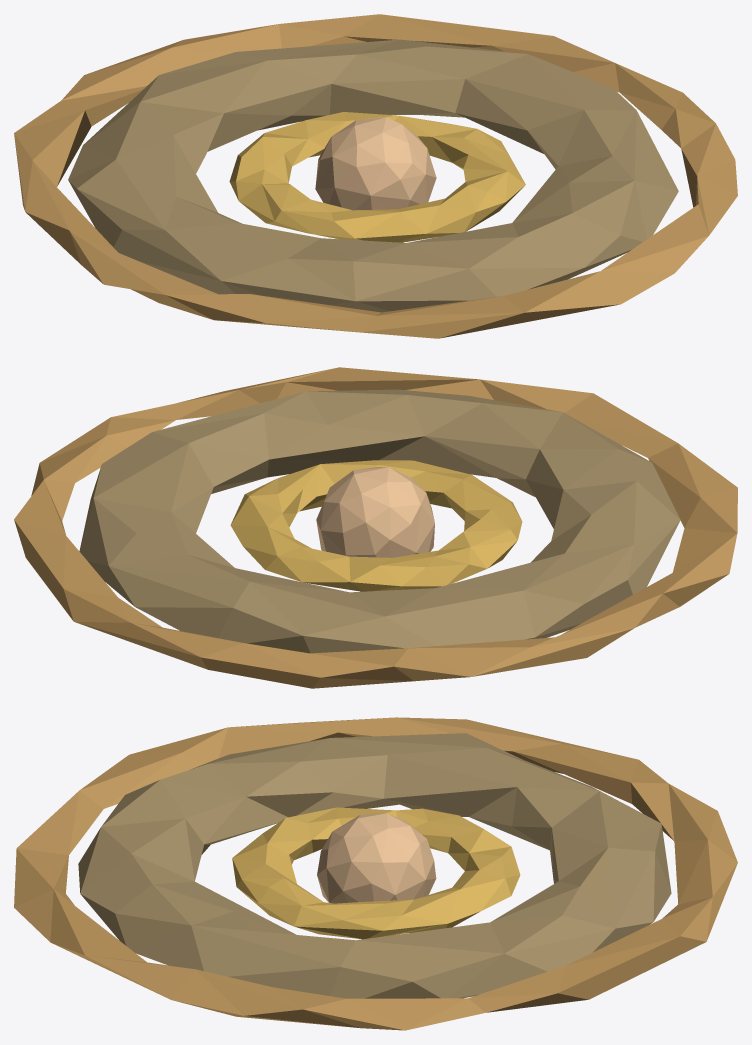
The picture shows the model from 3 angles, top to bottom: view 1: azimuth 30°, elevation 25°; view 2: azimuth 150°, elevation 25°; view 3: azimuth 270°, elevation 25°; orthographic projection.
Visible parts, largest first — view 1: J1407b; view 2: J1407b; view 3: J1407b.
Boxes of the visible parts, box(x1,y1,x2,y2) form: J1407b: box(14, 14, 737, 338); J1407b: box(14, 367, 737, 688); J1407b: box(14, 717, 737, 1030).
Bounding box in the file's own units: 1227 × 199 × 1233.
